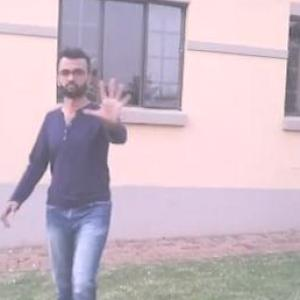follow_hand: (80, 70, 137, 130)
